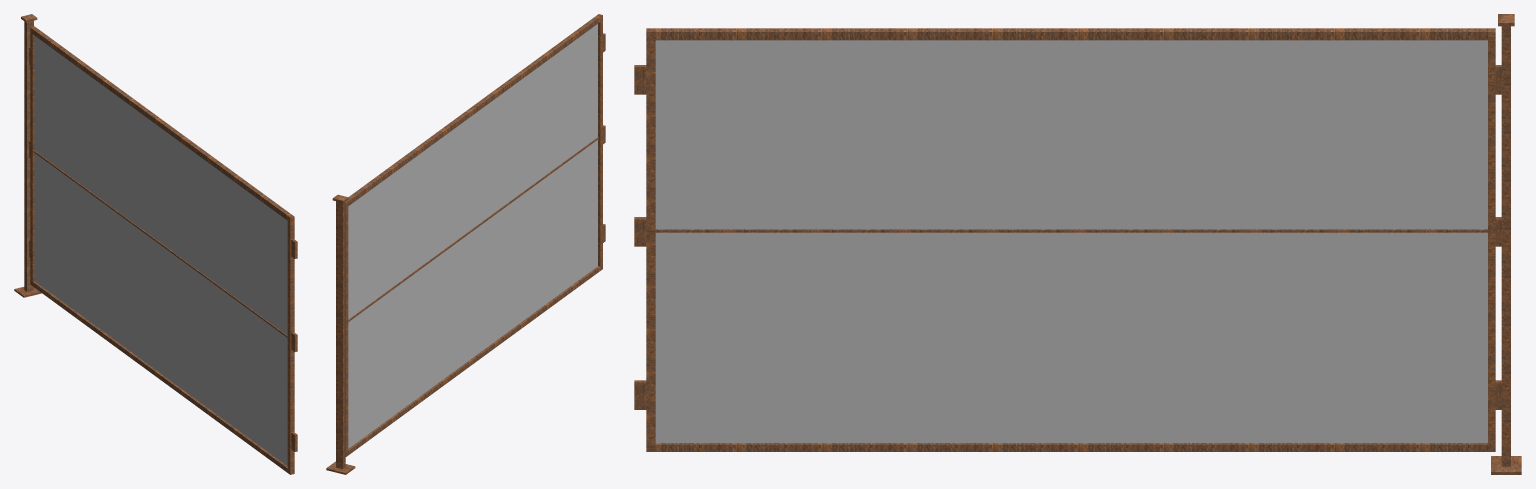
File: ind5_fence.fbx
The picture shows the model from 3 angles, left to right: view 1: azimuth 30°, elevation 25°; view 2: azimuth 150°, elevation 25°; view 3: azimuth 270°, elevation 25°; orthographic projection. The views are drawn at different scales.
Parts seen in each view (by area): view 1: Mesh Object; view 2: Mesh Object; view 3: Mesh Object.
Part boxes in pixels (box(x1,y1,x2,y2)): Mesh Object: box(14, 14, 297, 474); Mesh Object: box(326, 14, 605, 474); Mesh Object: box(634, 14, 1521, 474).
Size of the model in its own units: 0.1511 by 1.99 by 3.56.
